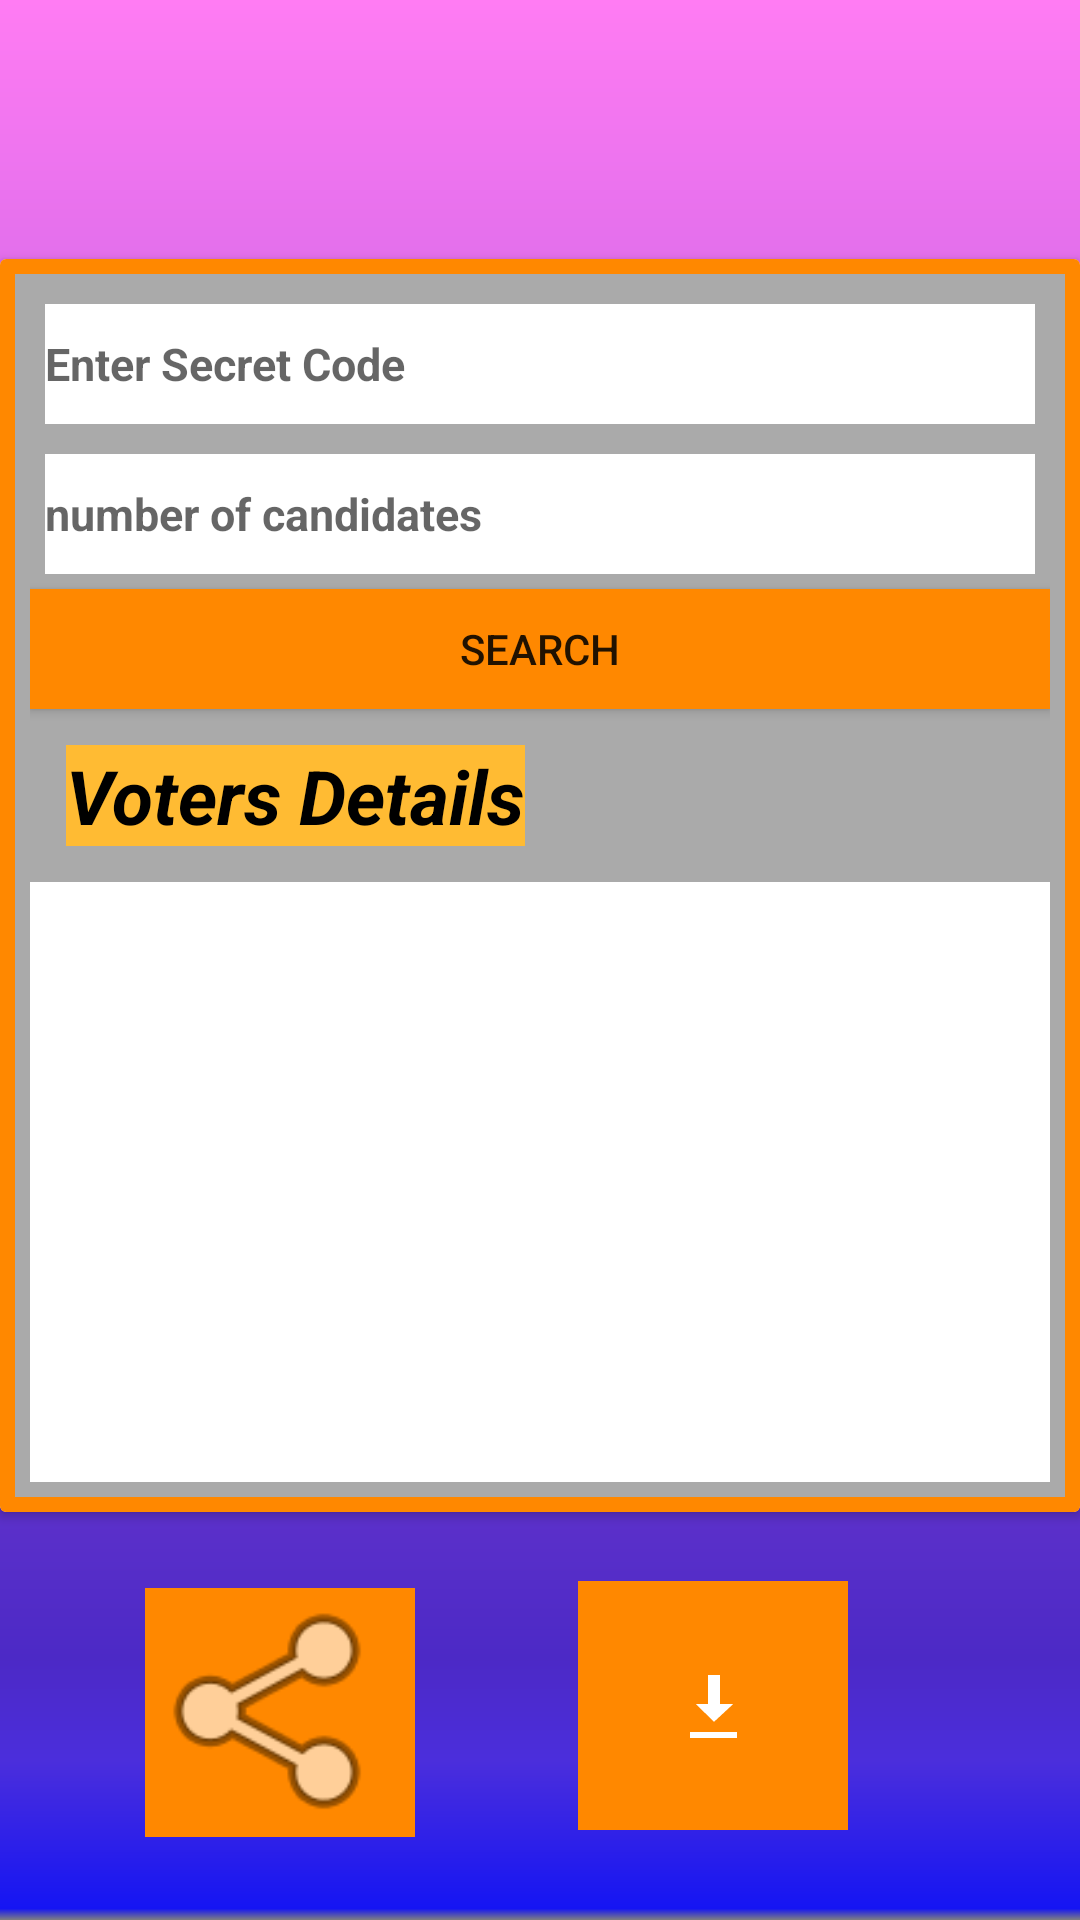

Icons on this 1080 × 1920 Android screen, each with the point to tap as [x,y]:
download: [713,1705]
share: [280,1712]
